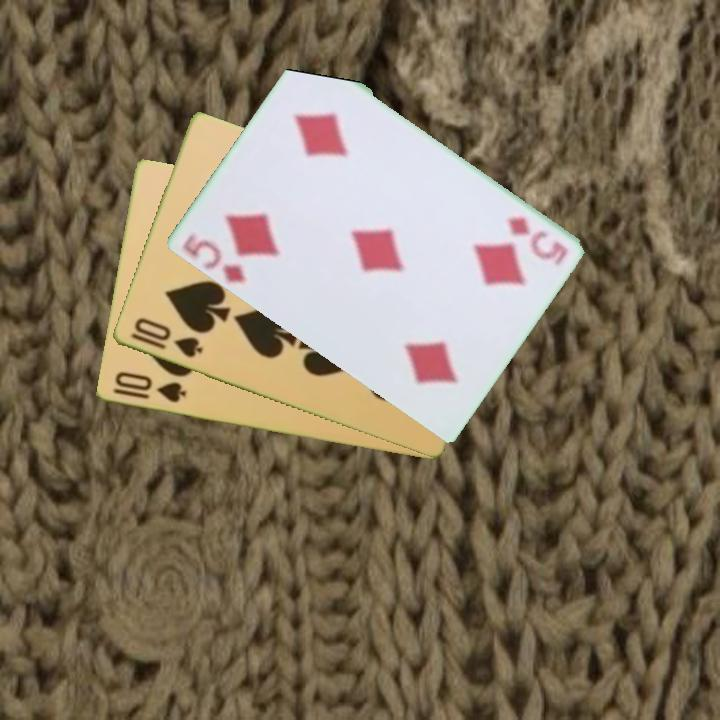10s: (126, 314, 206, 361), (108, 368, 188, 406)
5d: (178, 235, 250, 287), (503, 213, 570, 266)
